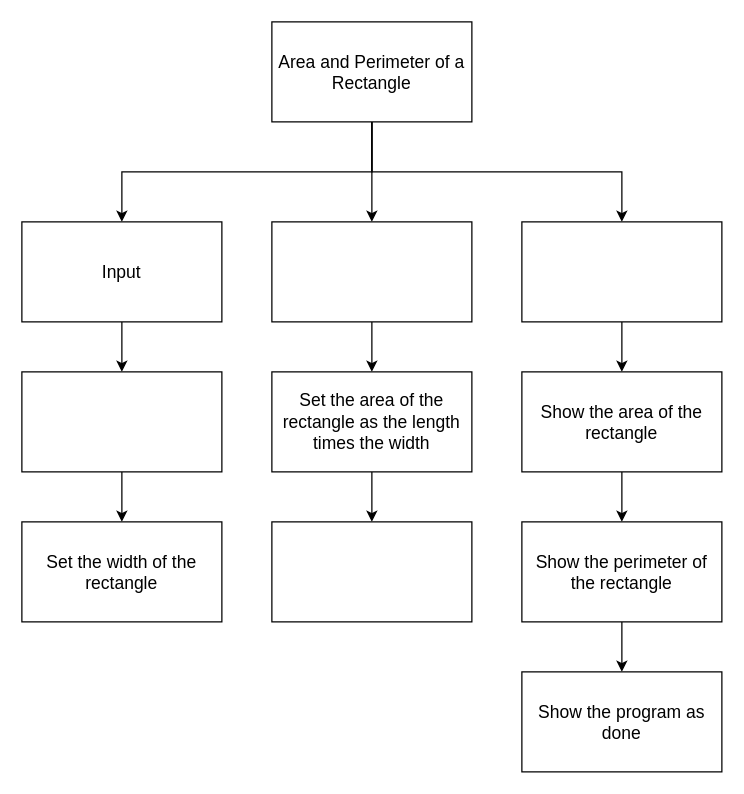
The diagram is 744 pixels wide and 794 high, and some of its shapes have lost their labels. Here are the shapes that lost their labels. From the top down, the box of each, then its label:
(271, 221, 472, 322): Process
(521, 221, 722, 322): Output
(21, 371, 222, 472): Set the length of the rectangle
(271, 521, 472, 622): Set the perimeter of the rectangle as 2 times the length plus the width
